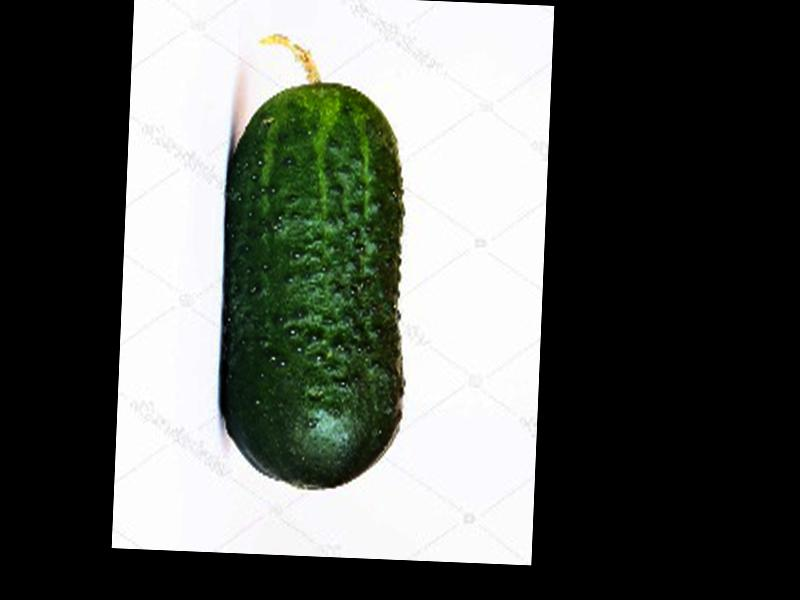Cucumber: (217, 30, 415, 488)
